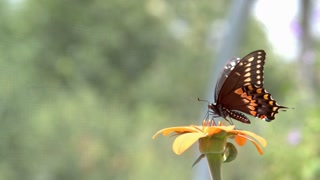Butterfly: (196, 49, 294, 127)
